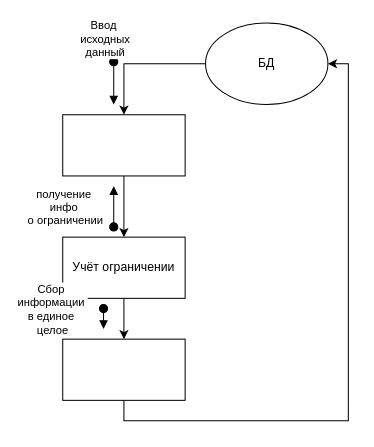
Some shapes in this 374 by 447 pixel diagram are drawn without their labels. The shapes that lost their labels are listed below. From the top down, each one's centre as x and y in pixels, then its label:
[123,145]: Сбор данных
[123,369]: Сборка и сравнение цен
